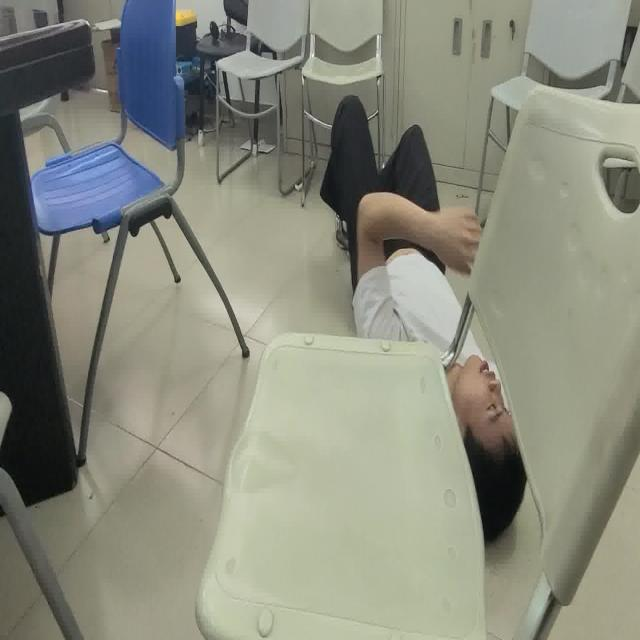Fall-Detected: (322, 95, 529, 537)
